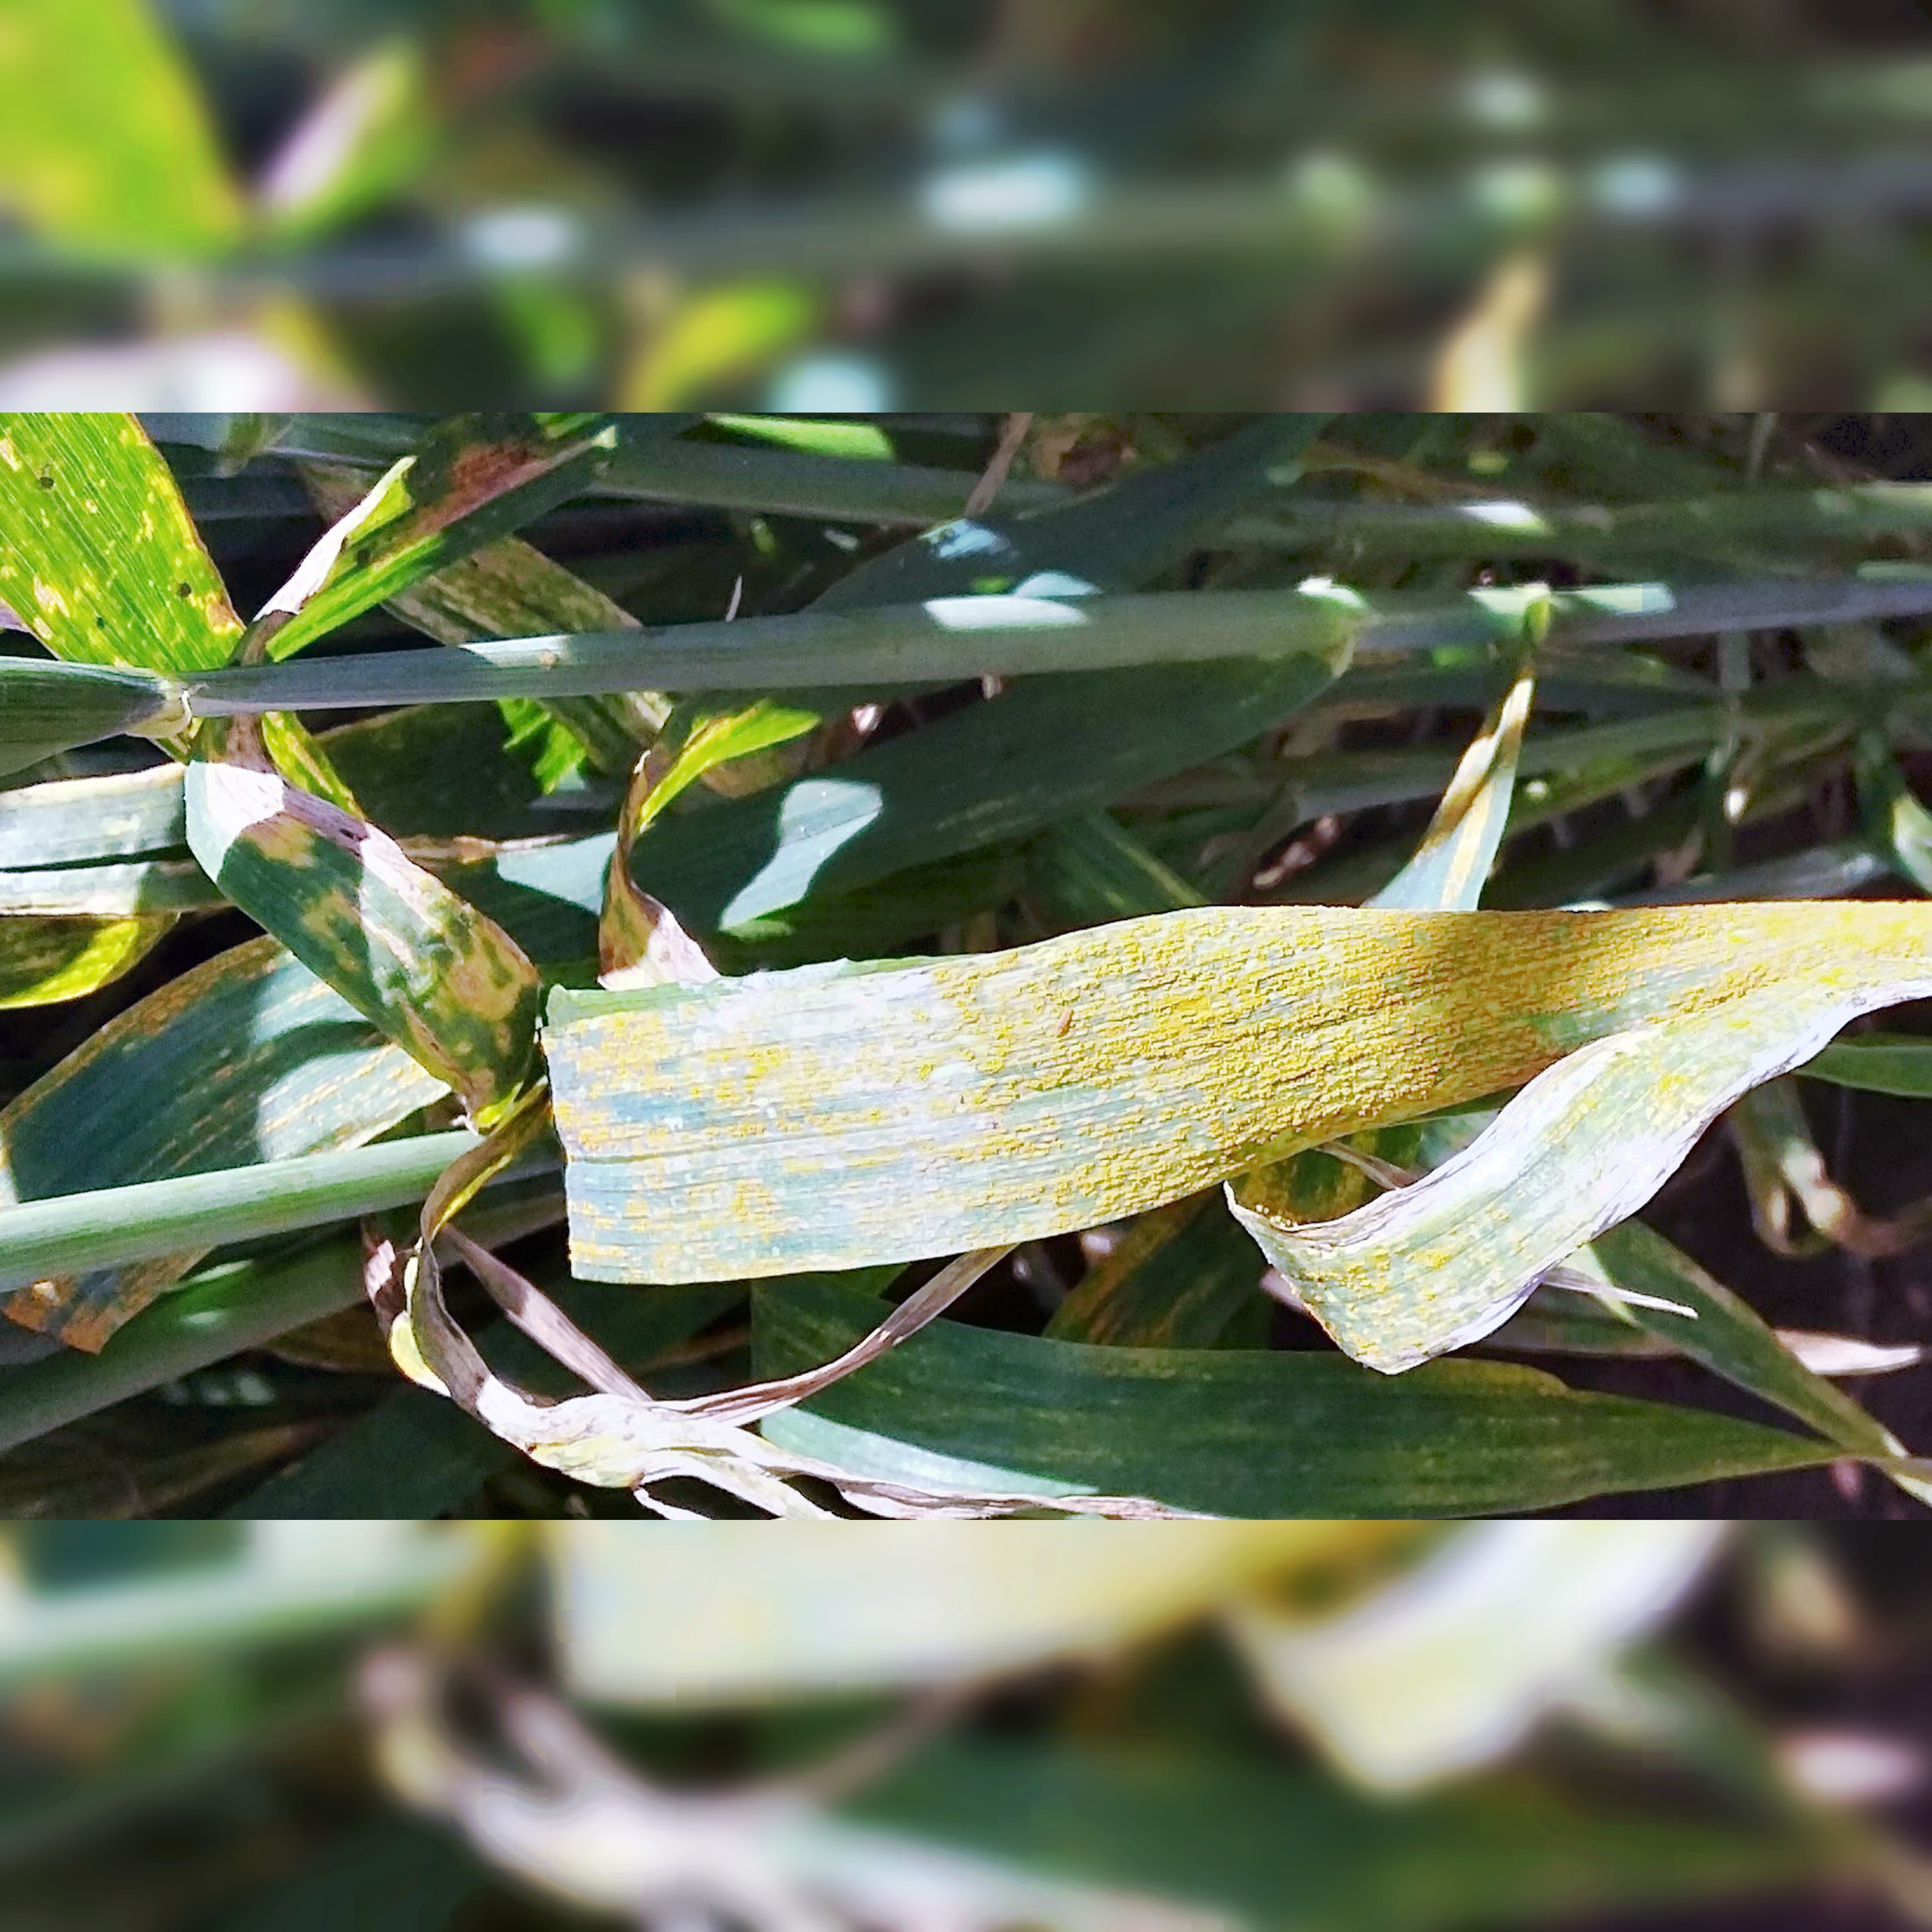Leaf Rust: (619, 817, 1798, 1277)
